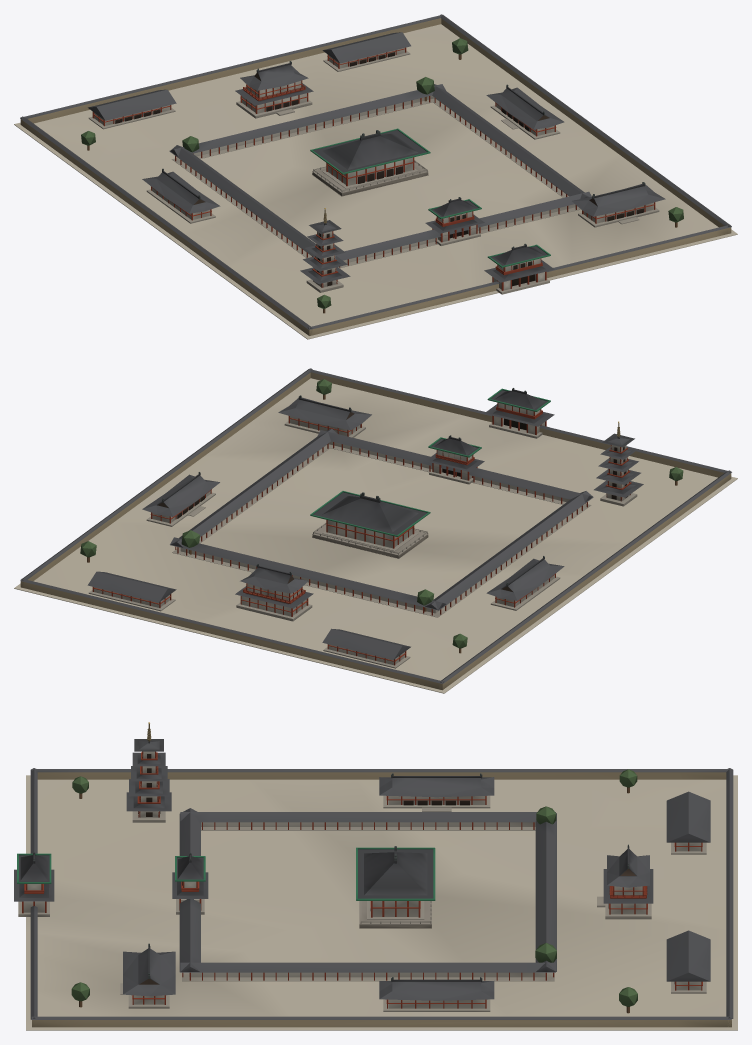
Rendered from ximing-si.glb.
3 renders of one model, top to bottom at view 1: azimuth 30°, elevation 25°; view 2: azimuth 150°, elevation 25°; view 3: azimuth 270°, elevation 25°, orthographic. The views are drawn at different scales.
Parts seen in each view (by area): view 1: p0_walls, p2_trees, p1_halls; view 2: p0_walls, p2_trees, p1_halls; view 3: p0_walls, p2_trees, p1_halls.
Part boxes in pixels (x1,y1,x2,y2): p0_walls: [14, 14, 737, 339]; p2_trees: [81, 32, 683, 313]; p1_halls: [88, 47, 659, 294]; p0_walls: [14, 368, 737, 693]; p2_trees: [80, 379, 683, 659]; p1_halls: [88, 402, 643, 668]; p0_walls: [26, 768, 737, 1030]; p2_trees: [14, 769, 710, 1013]; p1_halls: [18, 722, 706, 1011].
Bounding box in the file's own units: 220 × 38.09 × 264.
